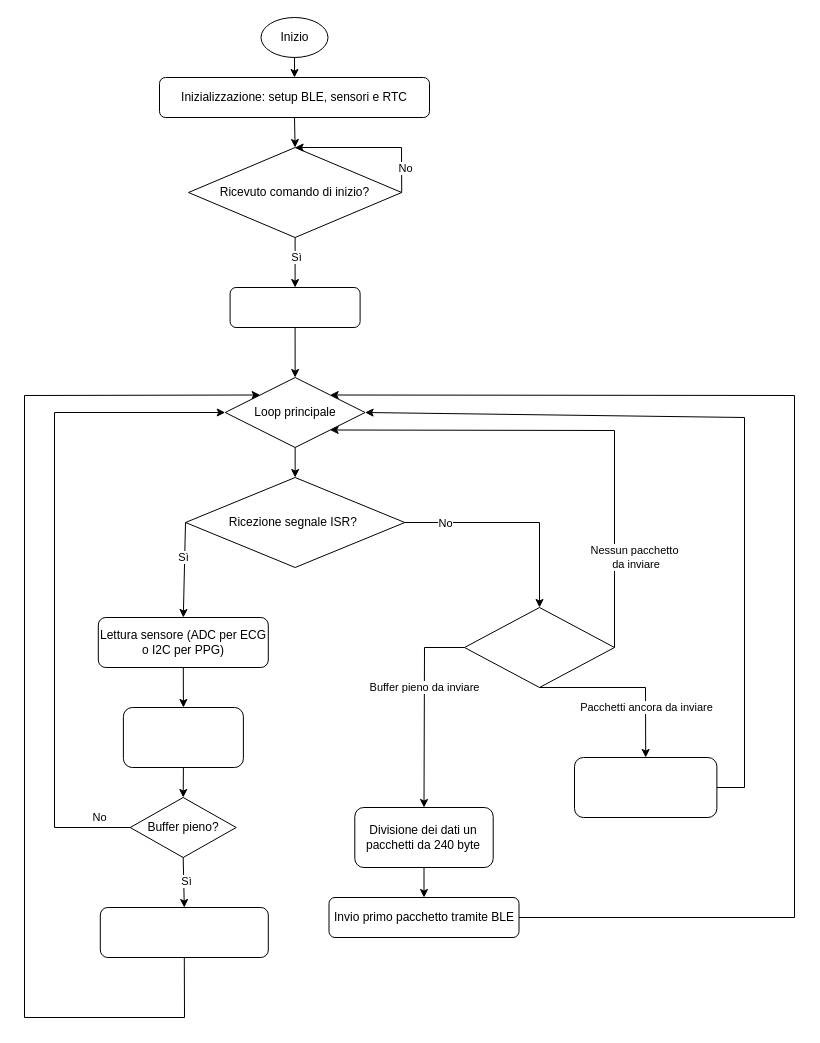
Some shapes in this 820 by 1043 pixel diagram are drawn without their labels. The centre of each missing label's shape, as x and y in pixels:
Invio pacchetto tramite BLE: the point at 645,787
Punta all'altro buffer e attiva flag bufferReadyToSend: the point at 183,932
Reset RTC e variabili: the point at 294,307
Scrittura nel buffer: the point at 182,737
Situazione buffer?: the point at 539,647
